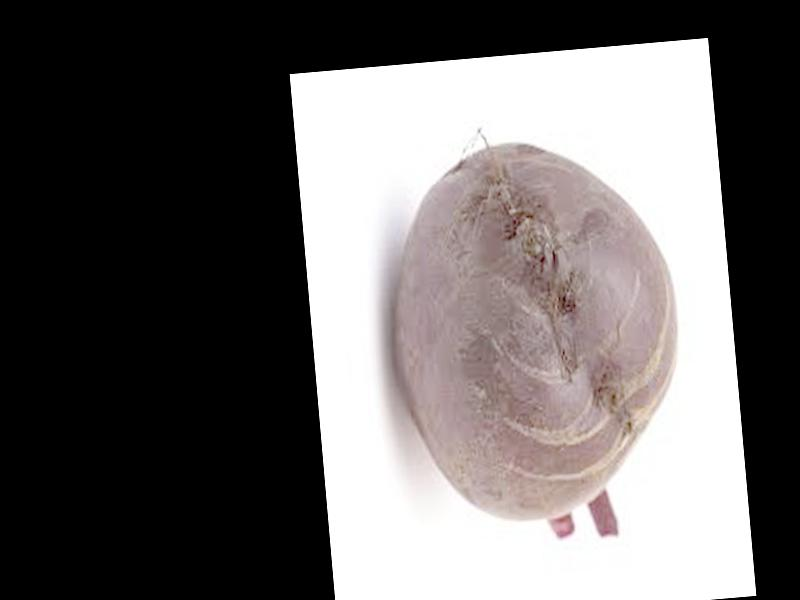Beet: (373, 128, 697, 550)
